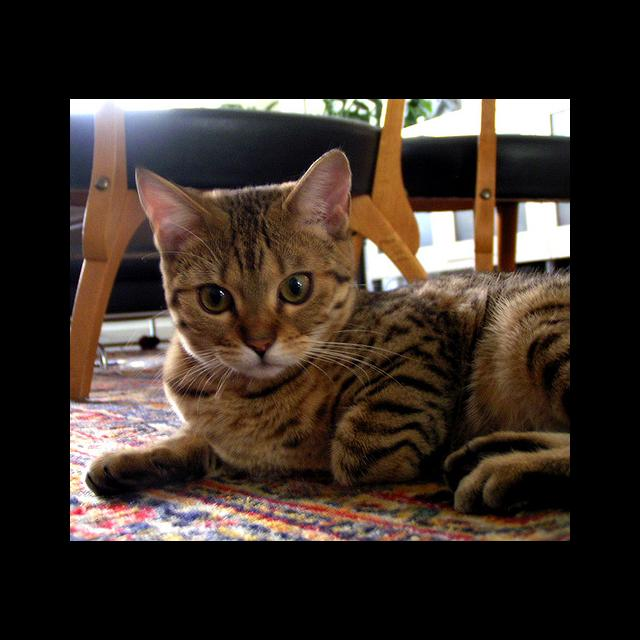animals: (138, 148, 343, 352)
